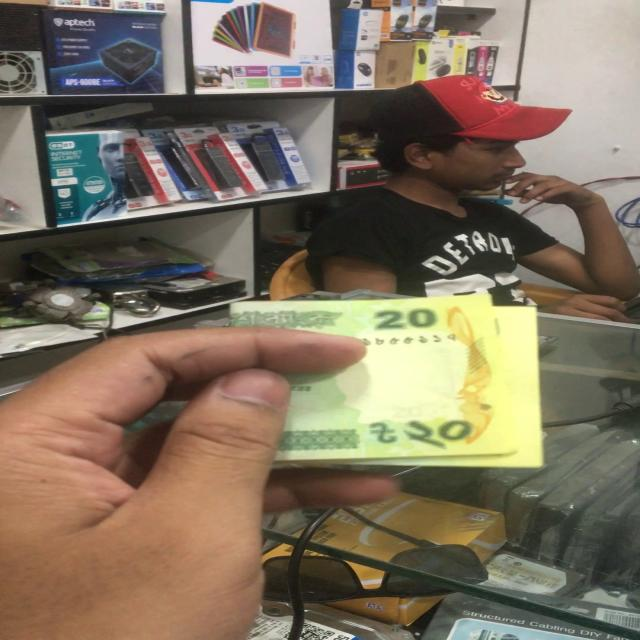Taka: (228, 300, 563, 478)
